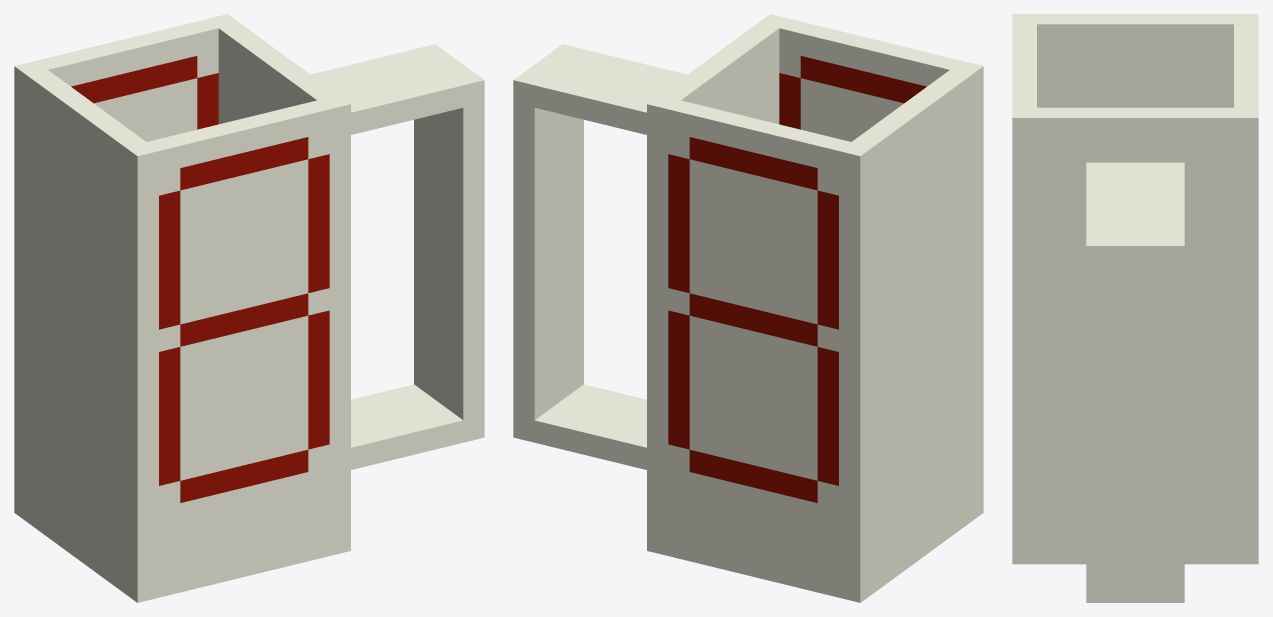
Rendered from Cup_8.obj.
The picture shows the model from 3 angles, left to right: view 1: azimuth 30°, elevation 25°; view 2: azimuth 150°, elevation 25°; view 3: azimuth 270°, elevation 25°; orthographic projection.
Size of the model in its own units: 18 by 20 by 10.
1 material, 1 textured.
